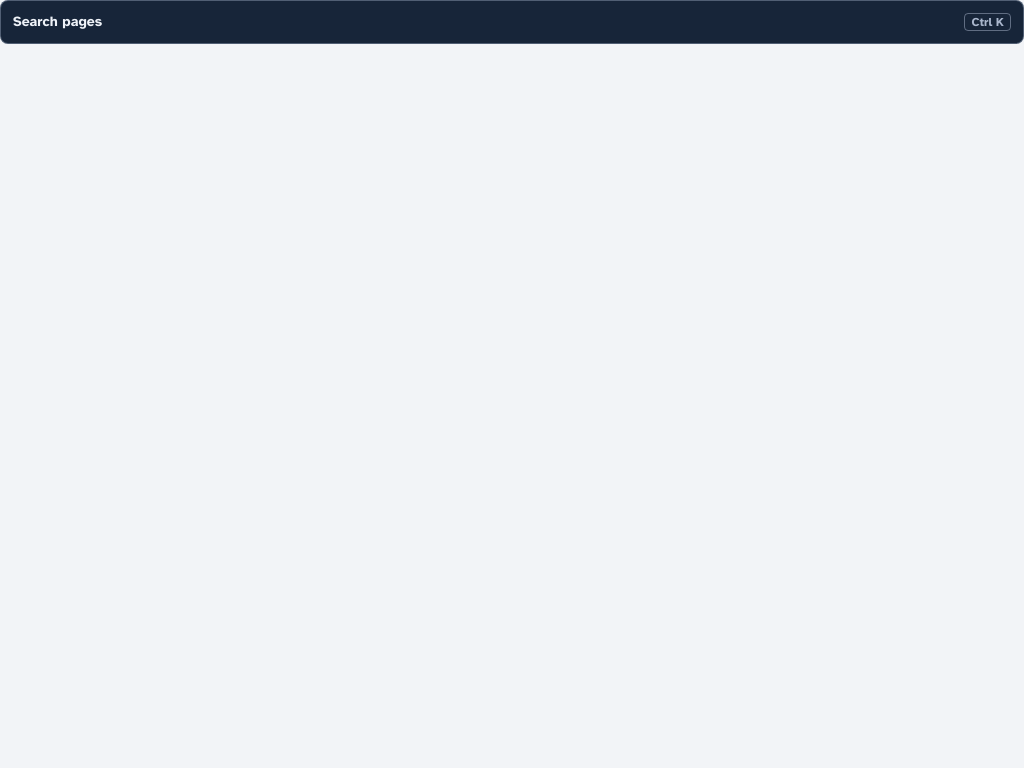
Test: CommandPalette › says so when no page matches
The image size is (1024, 768).
Click the button "Search pages Ctrl K" at (58, 22), box left=0, top=0, right=1023, bottom=44
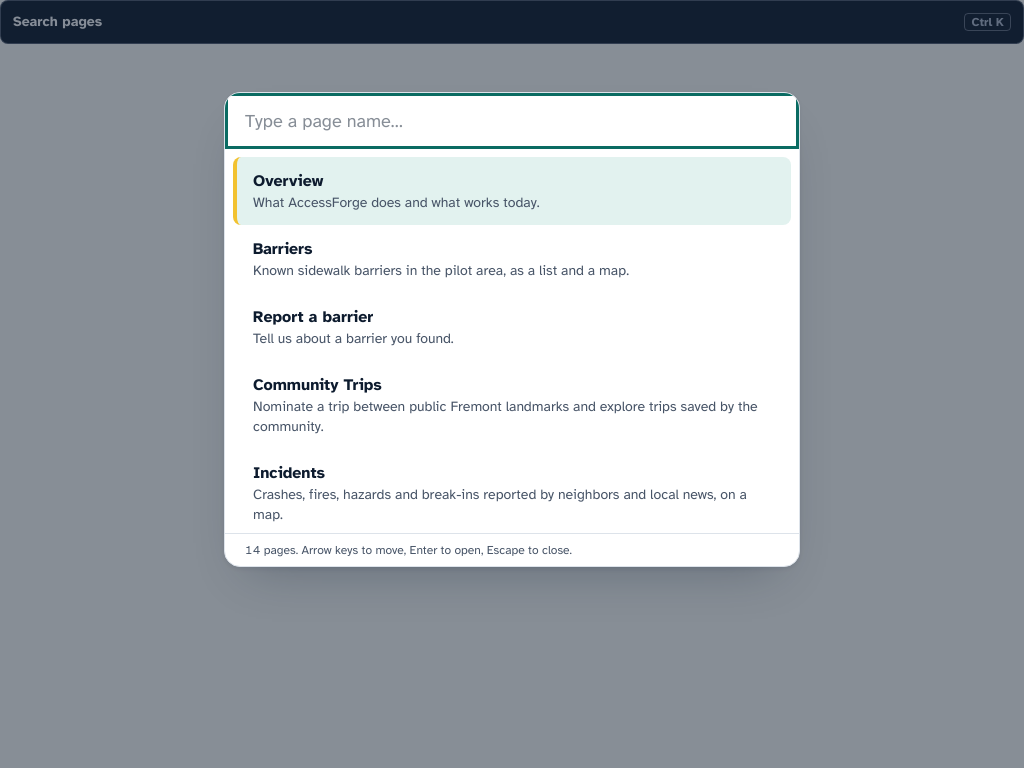
Type "zzzz" into the dropdown named "Search pages" at (512, 121), box left=225, top=93, right=799, bottom=149
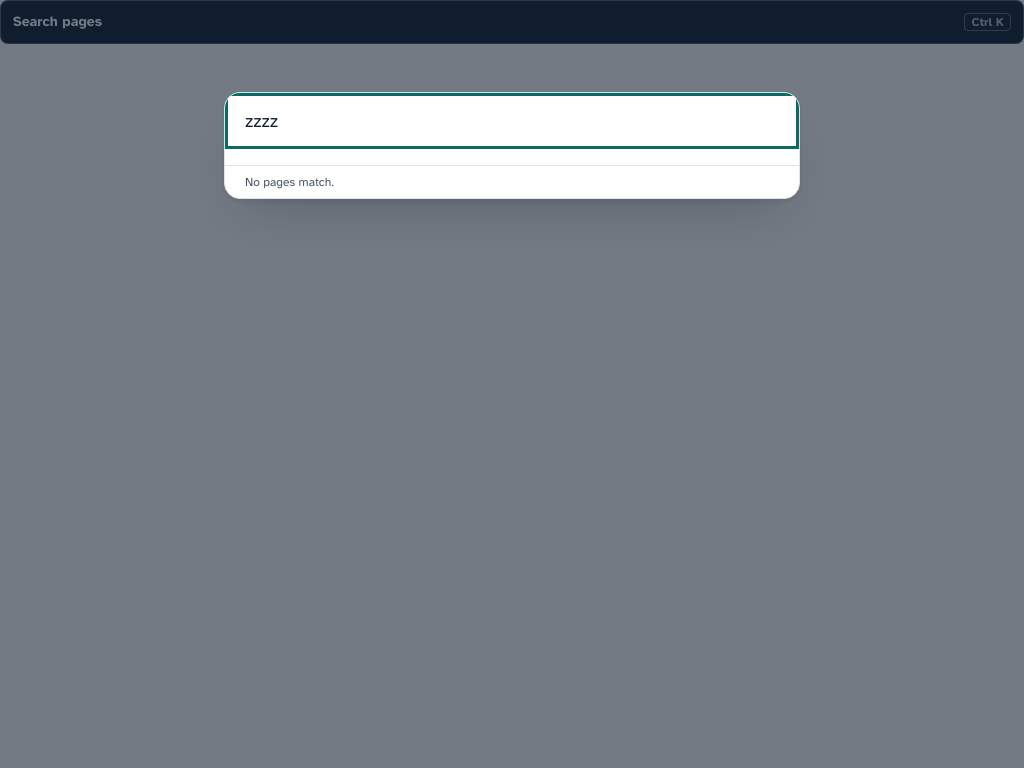
Now the message reads "No pages match.", box left=245, top=175, right=334, bottom=189
